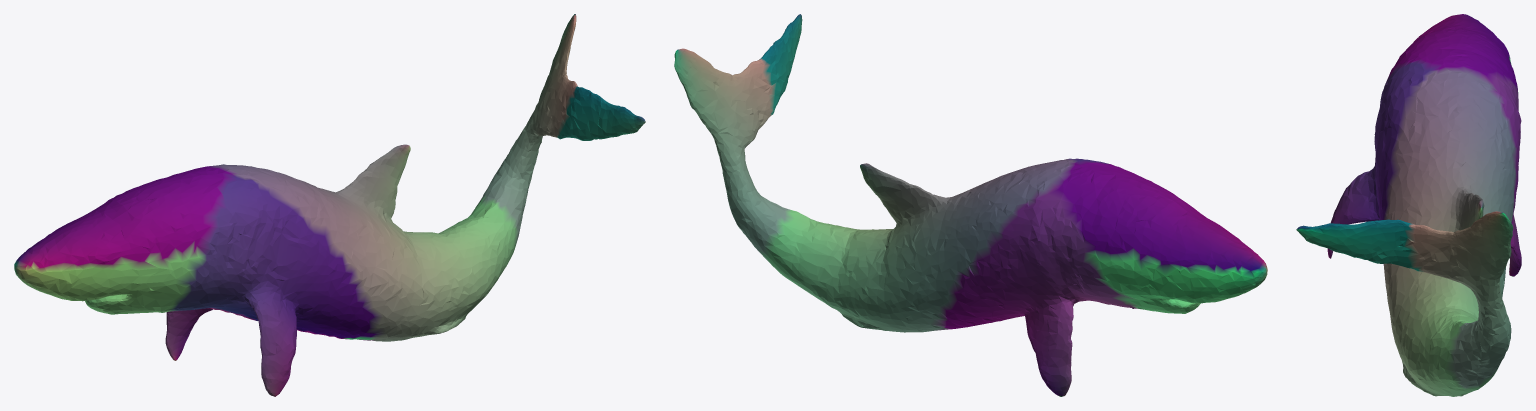
Rendered from shark-14.off.obj.
The picture shows the model from 3 angles, left to right: view 1: azimuth 30°, elevation 25°; view 2: azimuth 150°, elevation 25°; view 3: azimuth 270°, elevation 25°; orthographic projection. The views are drawn at different scales.
Size of the model in its own units: 1.53 by 0.636 by 0.4874.
